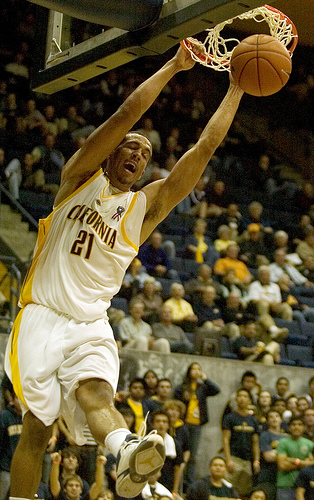basketball: (230, 35, 293, 96)
